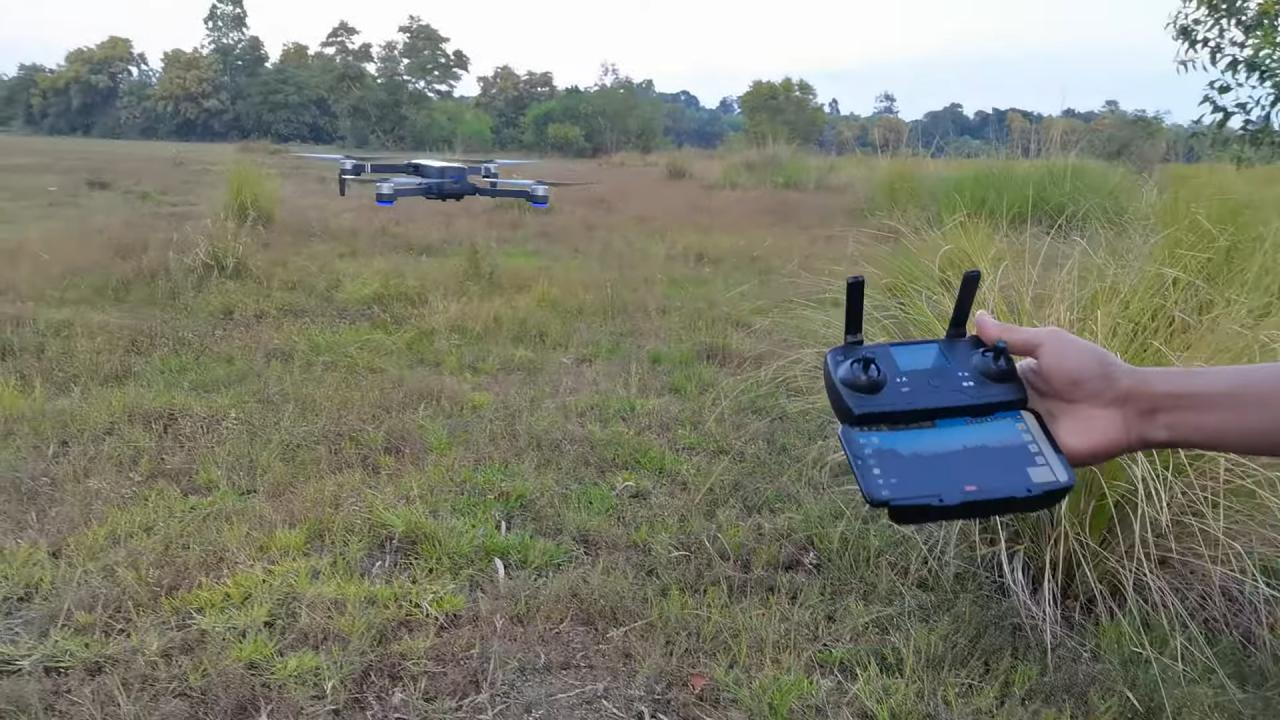Drone: (283, 130, 575, 228)
